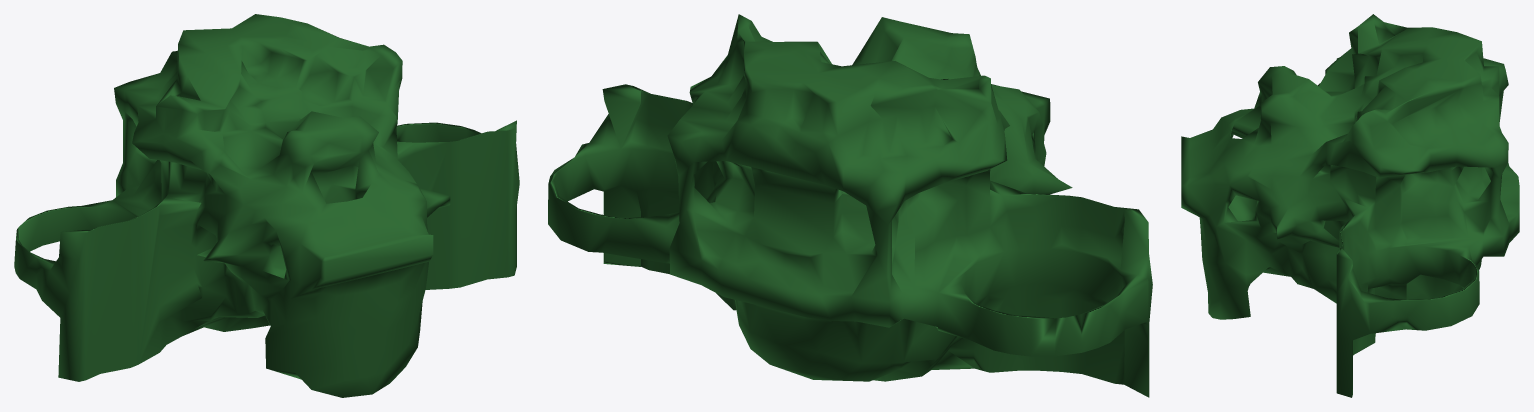
The model's file is sim_sea_2-5_chest_bb_prt.obj.
3 views of the same model, side by side, from view 1: azimuth 30°, elevation 25°; view 2: azimuth 150°, elevation 25°; view 3: azimuth 270°, elevation 25° (orthographic). The views are drawn at different scales.
Visible parts, largest first — view 1: sim_sea_2-5_chest_bb_prt; view 2: sim_sea_2-5_chest_bb_prt; view 3: sim_sea_2-5_chest_bb_prt.
Part boxes in pixels (left/top/right/bottom): sim_sea_2-5_chest_bb_prt: left=14, top=14, right=519, bottom=397; sim_sea_2-5_chest_bb_prt: left=548, top=14, right=1152, bottom=397; sim_sea_2-5_chest_bb_prt: left=1181, top=14, right=1519, bottom=397.
Bounding box in the file's own units: 472 × 261 × 311.
